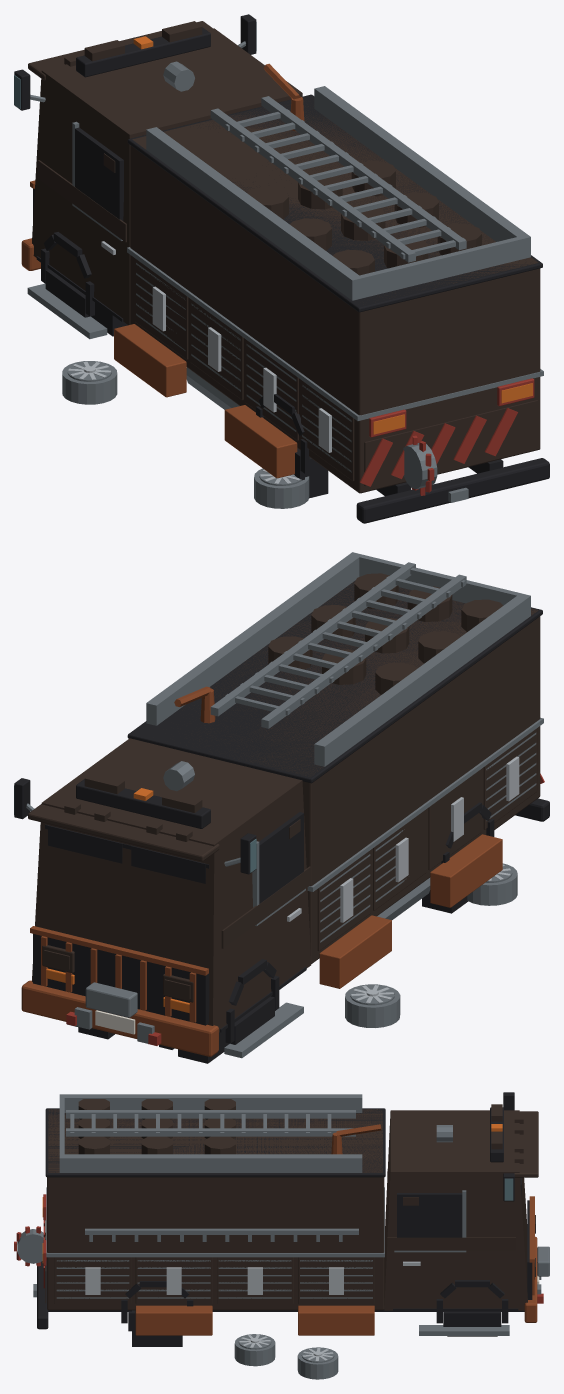
The model's file is fire_truck_burnt.glb.
3 renders of one model, top to bottom at view 1: azimuth 30°, elevation 25°; view 2: azimuth 150°, elevation 25°; view 3: azimuth 270°, elevation 25°, orthographic. The views are drawn at different scales.
Parts seen in each view (by area): view 1: fire_truck_burnt; view 2: fire_truck_burnt; view 3: fire_truck_burnt.
Boxes of the visible parts, left/top/right/bottom form: fire_truck_burnt: left=14, top=14, right=549, bottom=523; fire_truck_burnt: left=14, top=552, right=549, bottom=1063; fire_truck_burnt: left=14, top=1092, right=549, bottom=1379.
Size of what is drawn, in the model's own units: 4.74 by 3.58 by 8.51.
Materials: 3 (3 with a texture image).
